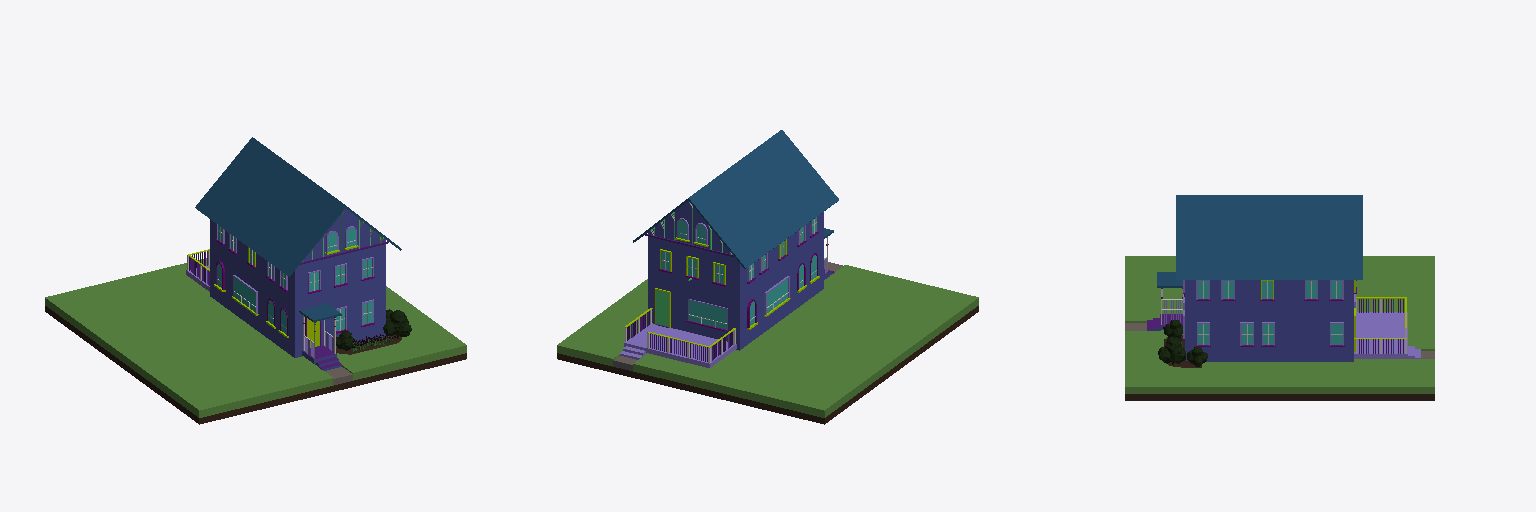
Rendered from house_5.obj.
The picture shows the model from 3 angles: view 1: azimuth 30°, elevation 25°; view 2: azimuth 150°, elevation 25°; view 3: azimuth 270°, elevation 25°; orthographic projection.
Visible parts, largest first — view 1: house_5_h; view 2: house_5_h; view 3: house_5_h.
Part boxes in pixels (bbox=[...]): house_5_h: bbox=[45, 137, 466, 424]; house_5_h: bbox=[557, 130, 978, 424]; house_5_h: bbox=[1125, 195, 1434, 400].
Bounding box in the file's own units: 22 × 12.47 × 22.